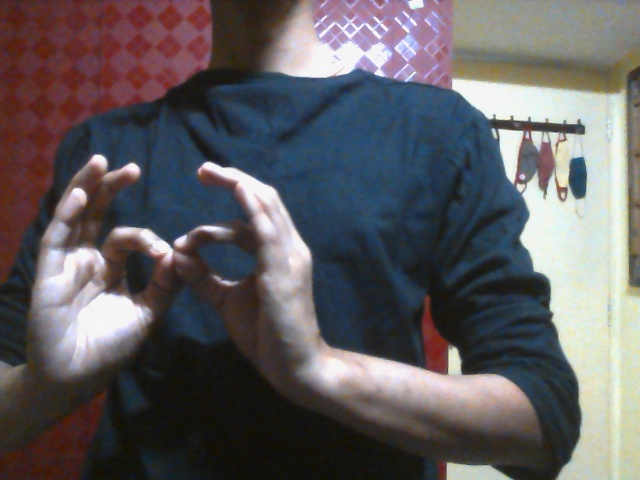B: (24, 155, 322, 429)
